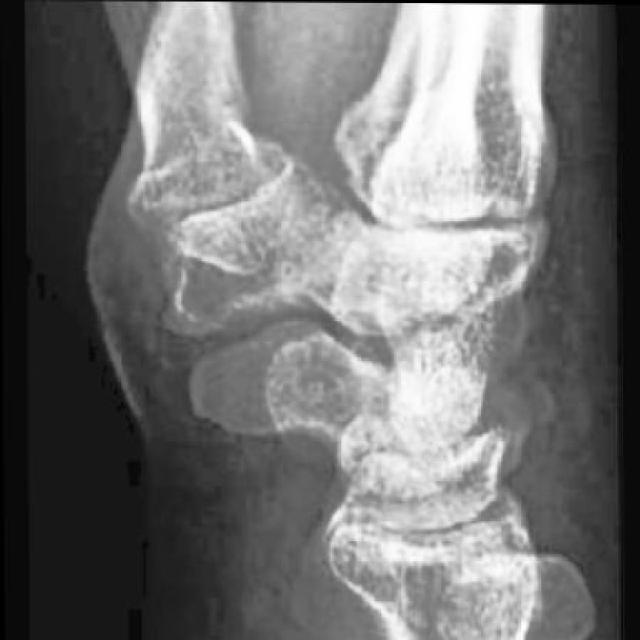Fracture: (492, 368, 562, 447)
